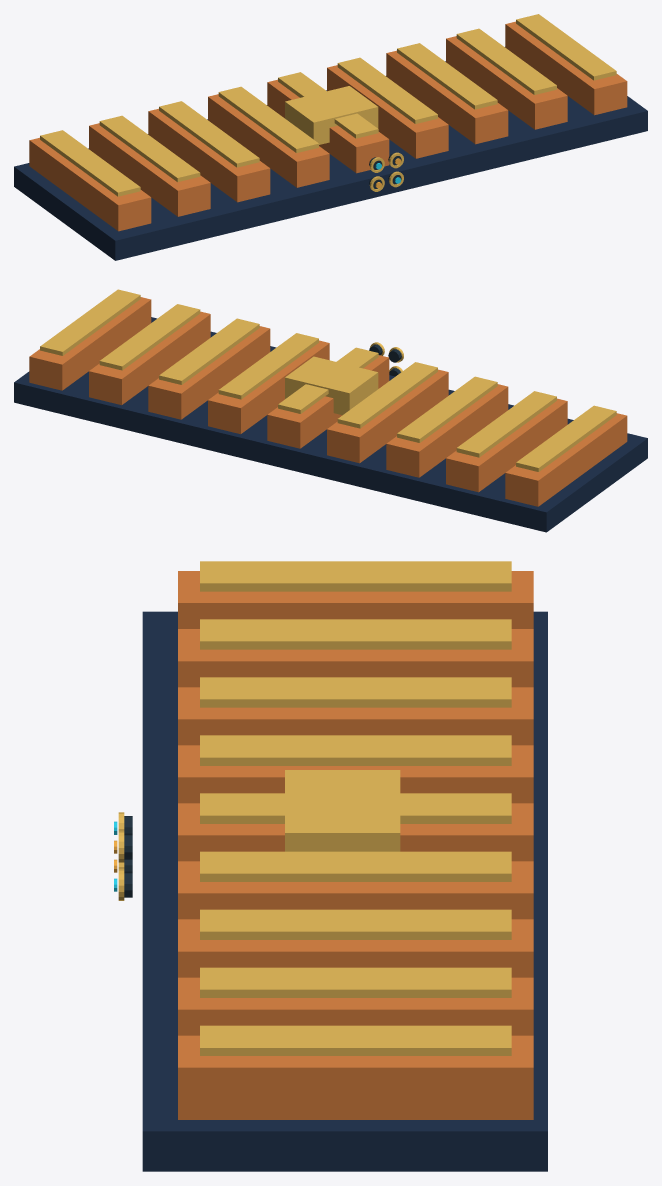
The model's file is 29_L83_RegulatedMainDCBus.fbx.
The picture shows the model from 3 angles, top to bottom: view 1: azimuth 30°, elevation 25°; view 2: azimuth 150°, elevation 25°; view 3: azimuth 270°, elevation 25°; orthographic projection. The views are drawn at different scales.
Visible parts, largest first — view 1: RegulatedMainDCBus, RegulatedMainDCBus_Part_0019; view 2: RegulatedMainDCBus, RegulatedMainDCBus_Part_0019; view 3: RegulatedMainDCBus, RegulatedMainDCBus_Part_0019.
Part boxes in pixels (x1,y1,x2,y2): RegulatedMainDCBus: (14, 14, 647, 260); RegulatedMainDCBus_Part_0019: (285, 86, 378, 144); RegulatedMainDCBus: (14, 289, 647, 532); RegulatedMainDCBus_Part_0019: (285, 356, 378, 415); RegulatedMainDCBus: (114, 561, 547, 1171); RegulatedMainDCBus_Part_0019: (285, 770, 400, 851).
Bounding box in the file's own units: 470 × 46.5 × 166.
